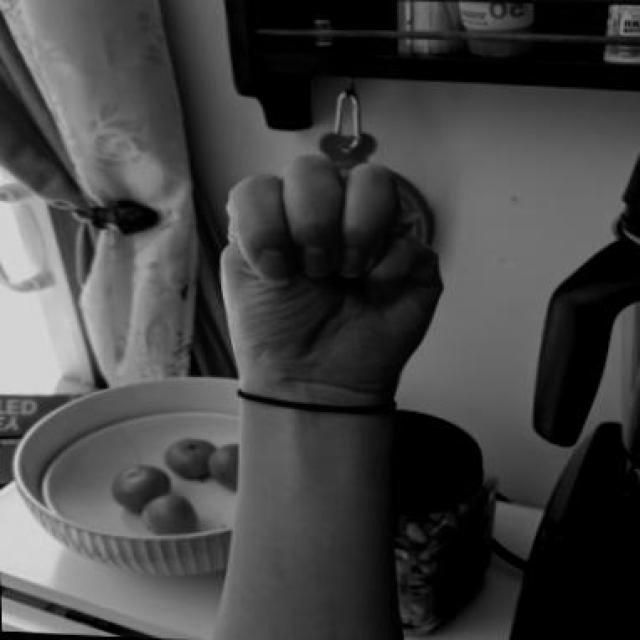M: (202, 143, 456, 402)
